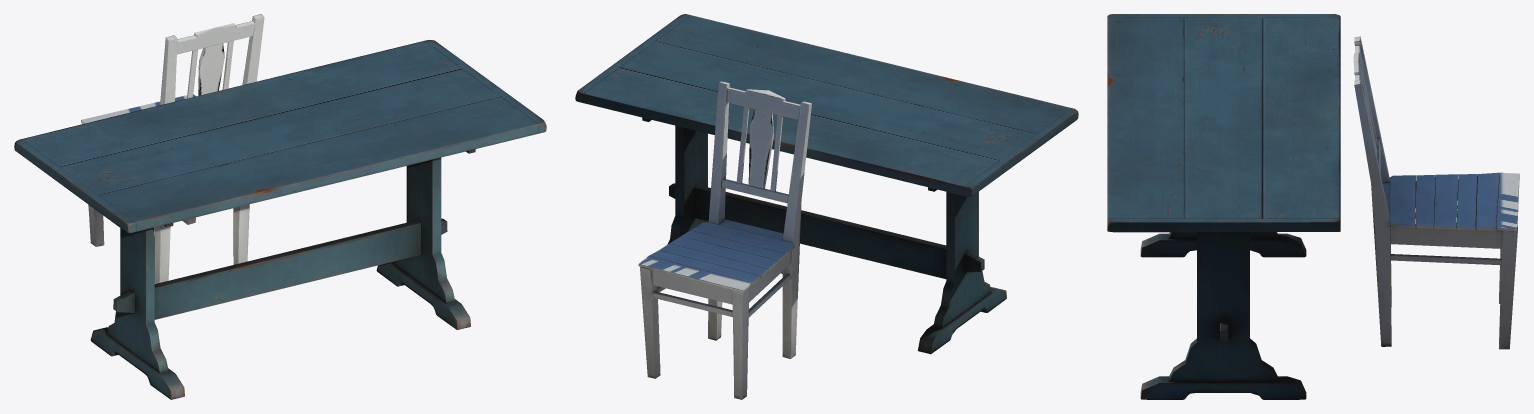
The model's file is table-1k.glb.
The picture shows the model from 3 angles, left to right: view 1: azimuth 30°, elevation 25°; view 2: azimuth 150°, elevation 25°; view 3: azimuth 270°, elevation 25°; orthographic projection. The views are drawn at different scales.
Size of the model in its own units: 27.99 by 16.67 by 23.38.
1 material, 1 textured.
